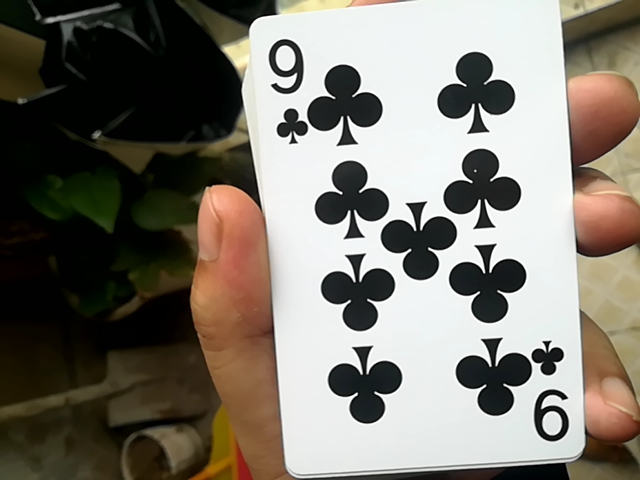mh 9: (233, 10, 585, 476)
